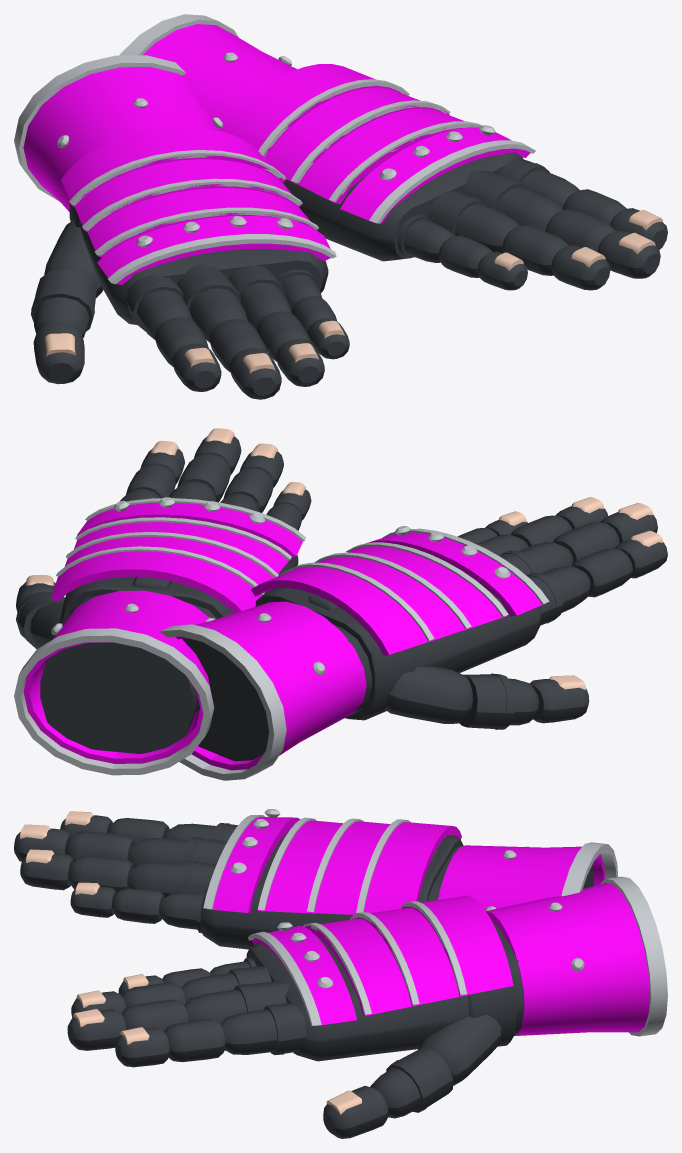
The model's file is objet_armure2_gants.glb.
The picture shows the model from 3 angles, top to bottom: view 1: azimuth 30°, elevation 25°; view 2: azimuth 150°, elevation 25°; view 3: azimuth 270°, elevation 25°; orthographic projection. The views are drawn at different scales.
Visible parts, largest first — view 1: main__gantelet_teinte.022, main__gantelet_teinte.021, manchette__gantelet_teinte.022, main__gantelet_rivet.014, manchette__gantelet_teinte.021, main__gantelet_rivet.013, main.021, main.022, manchette__gantelet_rivet.010, pouce_2.022, annulaire_1.021, majeur_1.021 (+25 smaller); view 2: main__gantelet_teinte.022, main__gantelet_teinte.021, manchette.021, manchette__gantelet_teinte.022, main.022, manchette__gantelet_teinte.021, manchette__gantelet_rivet.009, manchette.022, main__gantelet_rivet.013, main__gantelet_rivet.014, manchette__gantelet_rivet.010, pouce_1.022 (+25 smaller); view 3: manchette__gantelet_teinte.021, main__gantelet_teinte.021, main__gantelet_teinte.022, main.021, manchette__gantelet_teinte.022, main.022, main__gantelet_rivet.013, main__gantelet_rivet.014, pouce_2.021, index_1.021, manchette__gantelet_rivet.009, pouce_1.021 (+24 smaller).
Boxes of the visible parts, bbox=[...] form: main__gantelet_teinte.022: bbox=[61, 126, 330, 285]; main__gantelet_teinte.021: bbox=[224, 64, 530, 223]; manchette__gantelet_teinte.022: bbox=[23, 67, 219, 211]; main__gantelet_rivet.014: bbox=[69, 150, 336, 284]; manchette__gantelet_teinte.021: bbox=[143, 24, 297, 131]; main__gantelet_rivet.013: bbox=[258, 79, 535, 223]; main.021: bbox=[232, 118, 523, 261]; main.022: bbox=[69, 203, 328, 324]; manchette__gantelet_rivet.010: bbox=[14, 55, 223, 201]; pouce_2.022: bbox=[31, 269, 96, 337]; annulaire_1.021: bbox=[427, 191, 519, 253]; majeur_1.021: bbox=[462, 170, 563, 231]; main__gantelet_teinte.022: bbox=[251, 532, 545, 655]; main__gantelet_teinte.021: bbox=[51, 502, 302, 613]; manchette.021: bbox=[40, 642, 197, 753]; manchette__gantelet_teinte.022: bbox=[176, 601, 366, 770]; main.022: bbox=[255, 588, 541, 720]; manchette__gantelet_teinte.021: bbox=[23, 590, 212, 763]; manchette__gantelet_rivet.009: bbox=[14, 603, 214, 775]; manchette.022: bbox=[182, 638, 268, 761]; main__gantelet_rivet.013: bbox=[56, 497, 305, 595]; main__gantelet_rivet.014: bbox=[279, 526, 549, 640]; manchette__gantelet_rivet.010: bbox=[159, 613, 325, 780]; pouce_1.022: bbox=[385, 666, 472, 723]; manchette__gantelet_teinte.021: bbox=[486, 883, 649, 1035]; main__gantelet_teinte.021: bbox=[252, 895, 513, 1025]; main__gantelet_teinte.022: bbox=[207, 816, 461, 914]; main.021: bbox=[246, 930, 523, 1061]; manchette__gantelet_teinte.022: bbox=[438, 845, 605, 909]; main.022: bbox=[200, 826, 463, 949]; main__gantelet_rivet.013: bbox=[248, 901, 466, 1025]; main__gantelet_rivet.014: bbox=[203, 809, 411, 913]; pouce_2.021: bbox=[370, 1047, 453, 1118]; index_1.021: bbox=[220, 1003, 306, 1054]; manchette__gantelet_rivet.009: bbox=[548, 876, 667, 1036]; pouce_1.021: bbox=[418, 1015, 501, 1085].
Bounding box in the file's own units: 0.3286 × 0.0844 × 0.3517.
